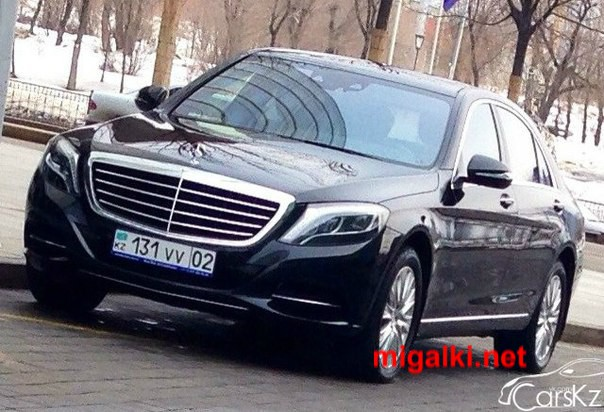license_plate: (116, 229, 216, 277)
